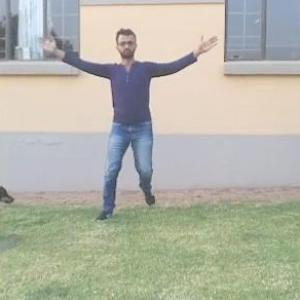takeoff: (59, 26, 226, 206)
